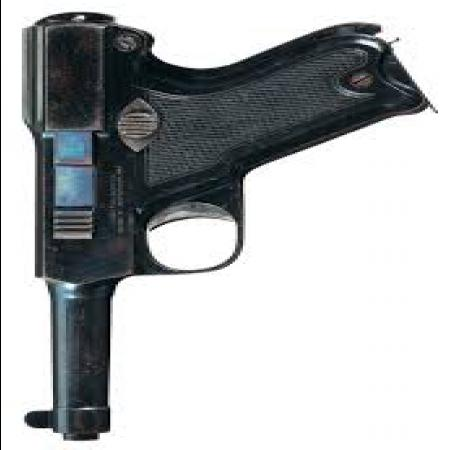Pistol: (13, 11, 411, 444)
